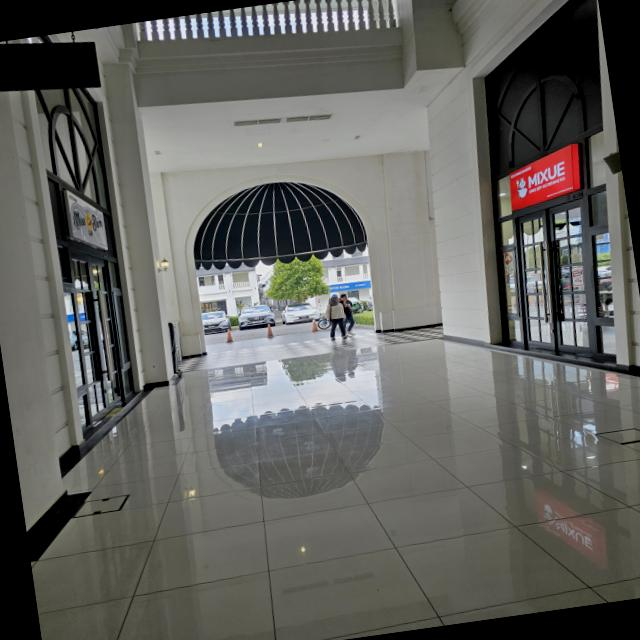door: (508, 198, 610, 370), (59, 238, 144, 422)
footpath: (136, 335, 541, 640)
person: (318, 290, 356, 346)
